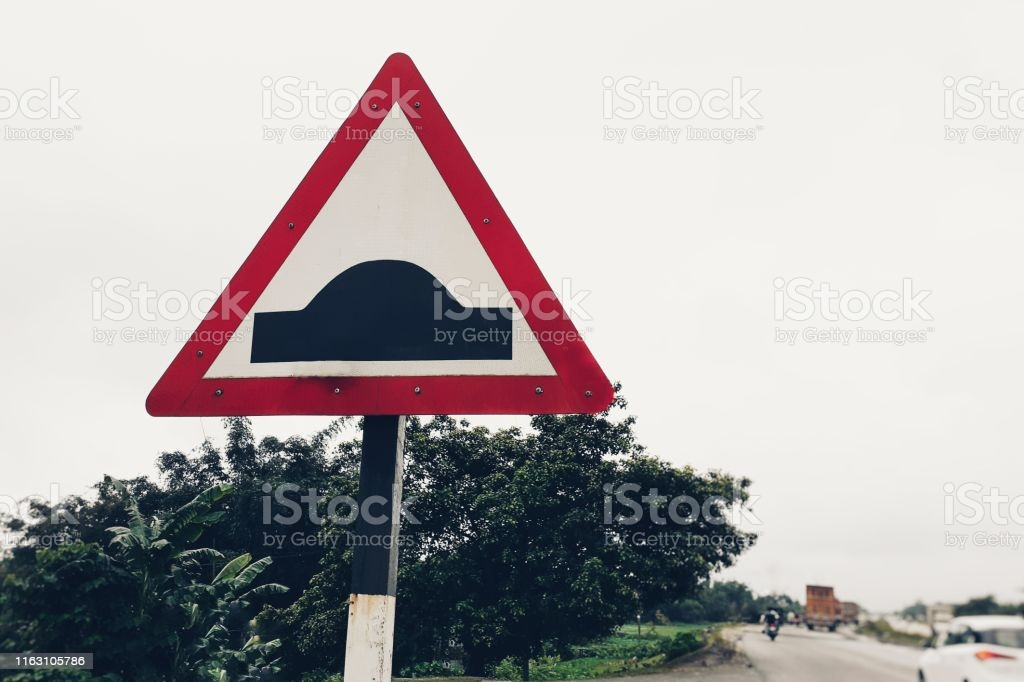speed-breaker: (179, 165, 591, 411)
